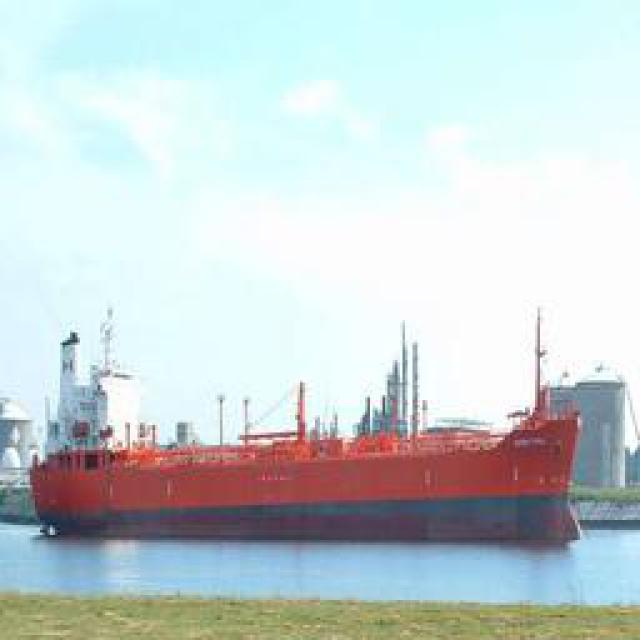Ship: (36, 428, 574, 543)
